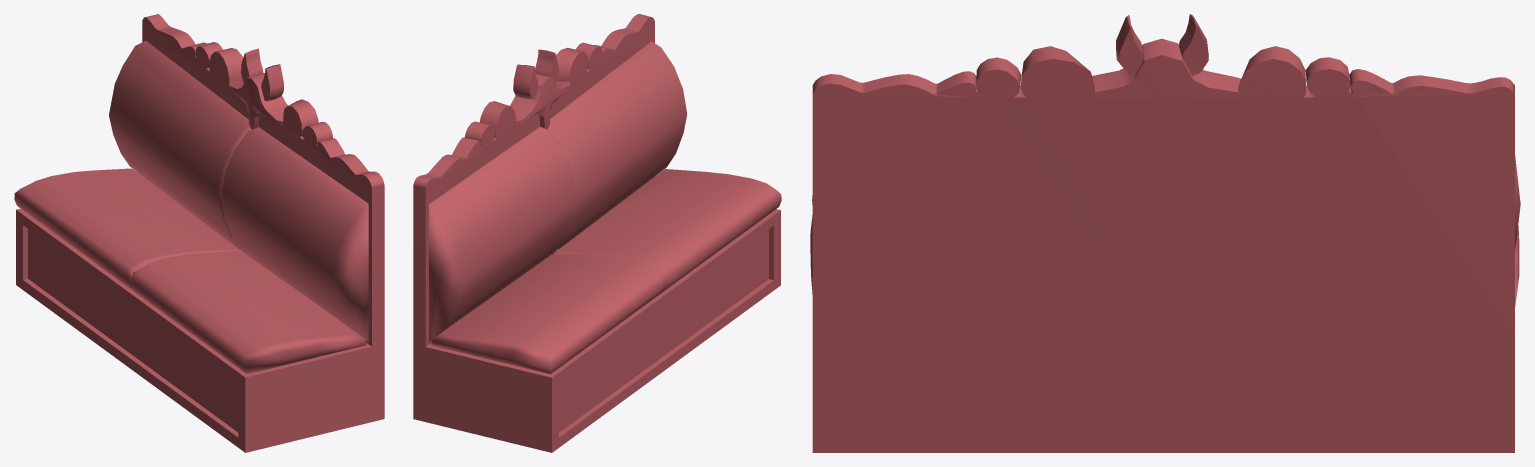
The model's file is banquette.fbx.
The picture shows the model from 3 angles, left to right: view 1: azimuth 30°, elevation 25°; view 2: azimuth 150°, elevation 25°; view 3: azimuth 270°, elevation 25°; orthographic projection. The views are drawn at different scales.
Parts seen in each view (by area): view 1: banquette; view 2: banquette; view 3: banquette.
Part boxes in pixels (left/top/right/bottom): banquette: left=14, top=14, right=384, bottom=452; banquette: left=413, top=14, right=781, bottom=452; banquette: left=810, top=14, right=1520, bottom=452.
Bounding box in the file's own units: 21.61 × 40.35 × 60.67.
